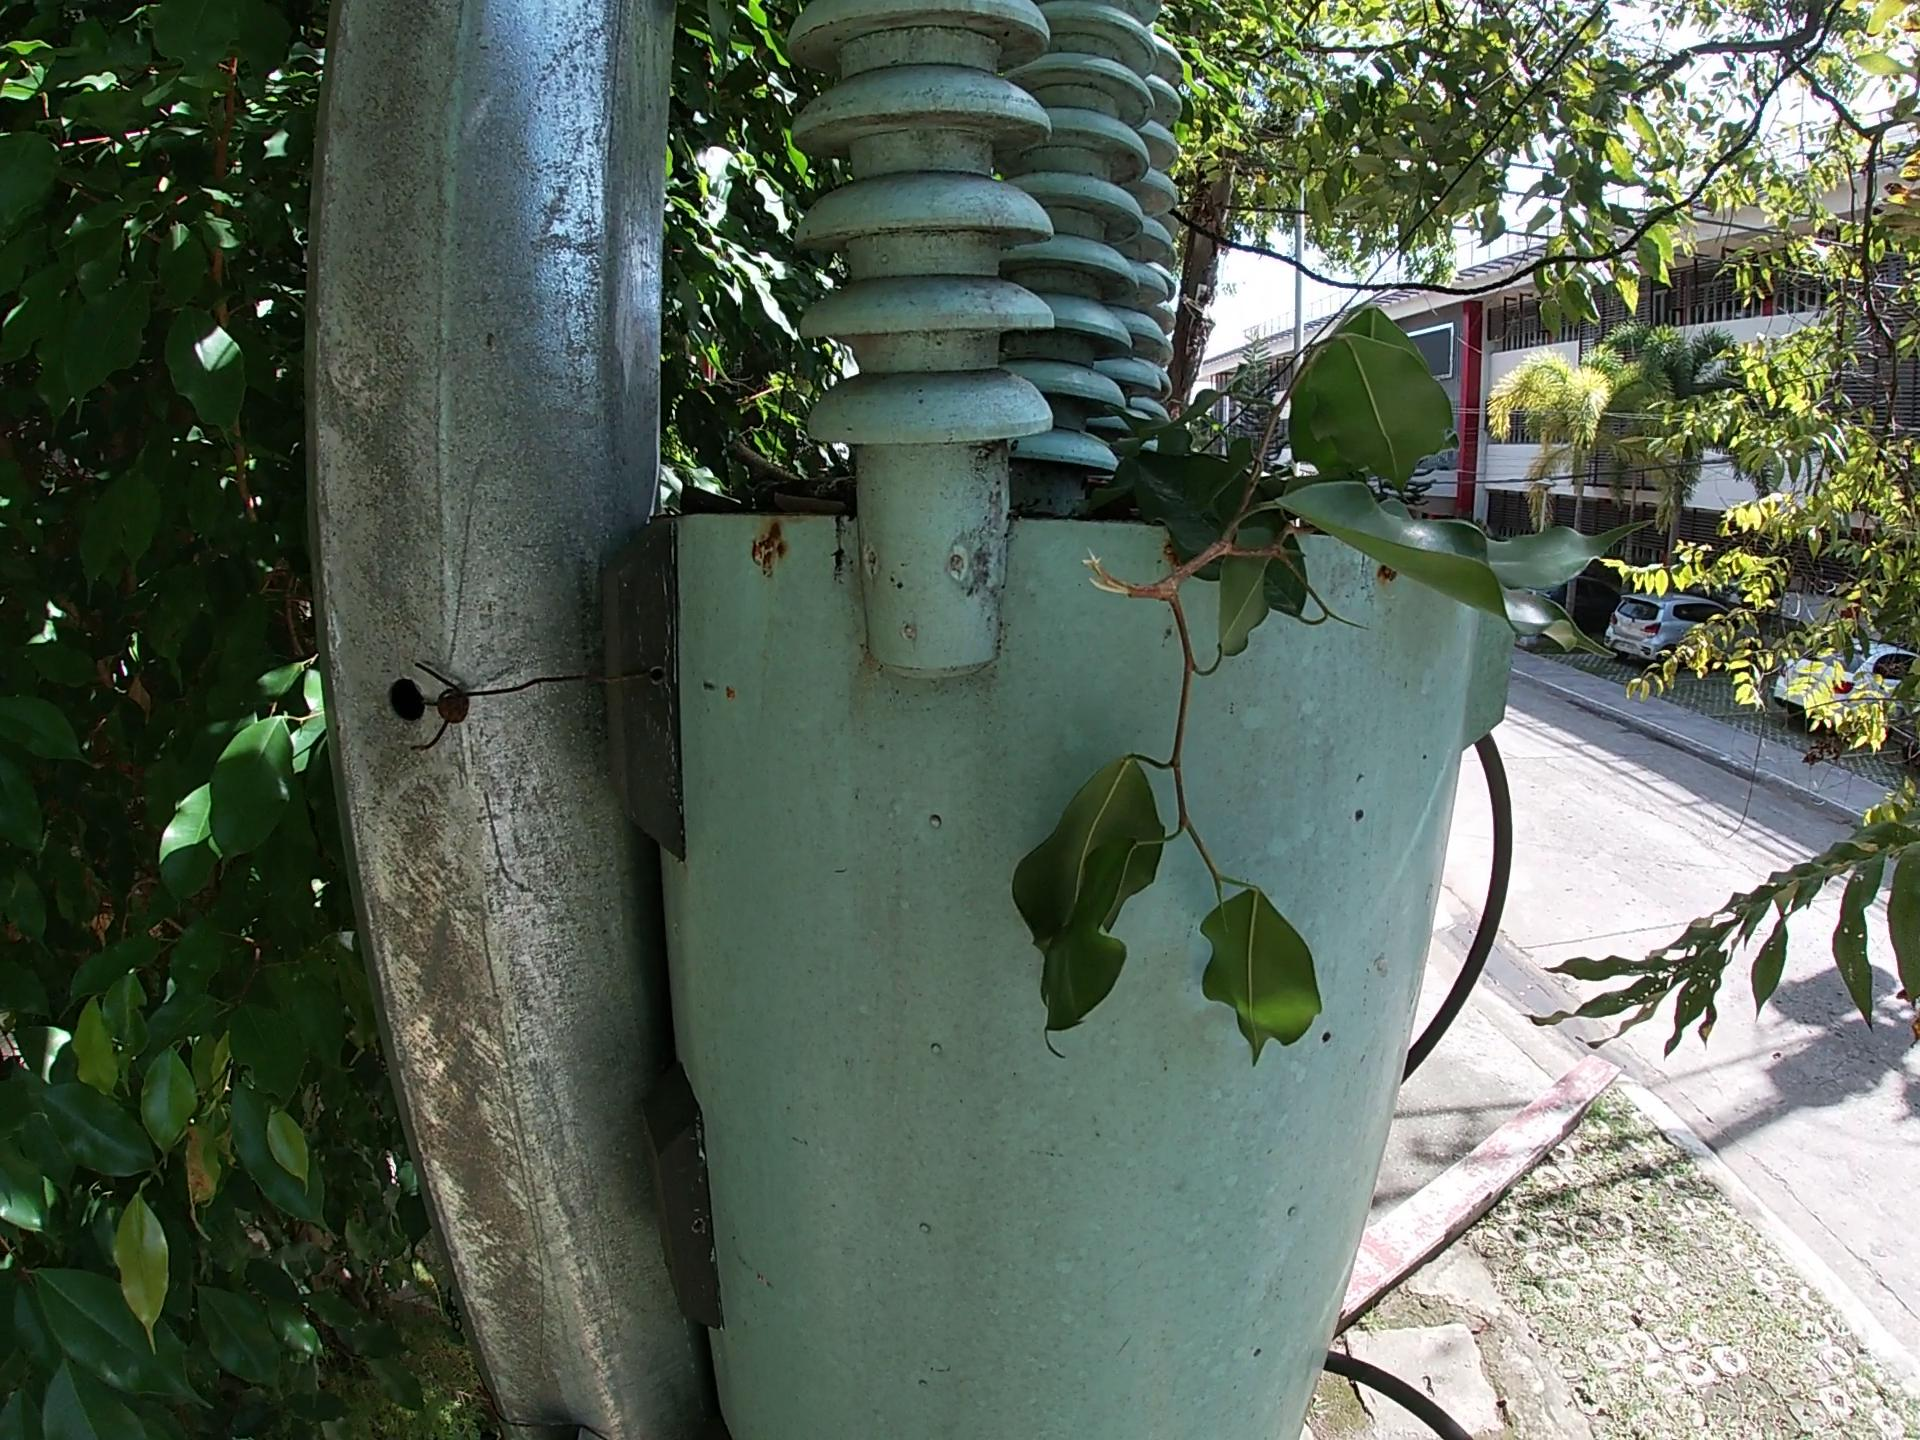branch with leaves: (1013, 266, 1661, 1103)
leaf: (677, 470, 739, 511)
tree branch: (727, 421, 862, 511)
